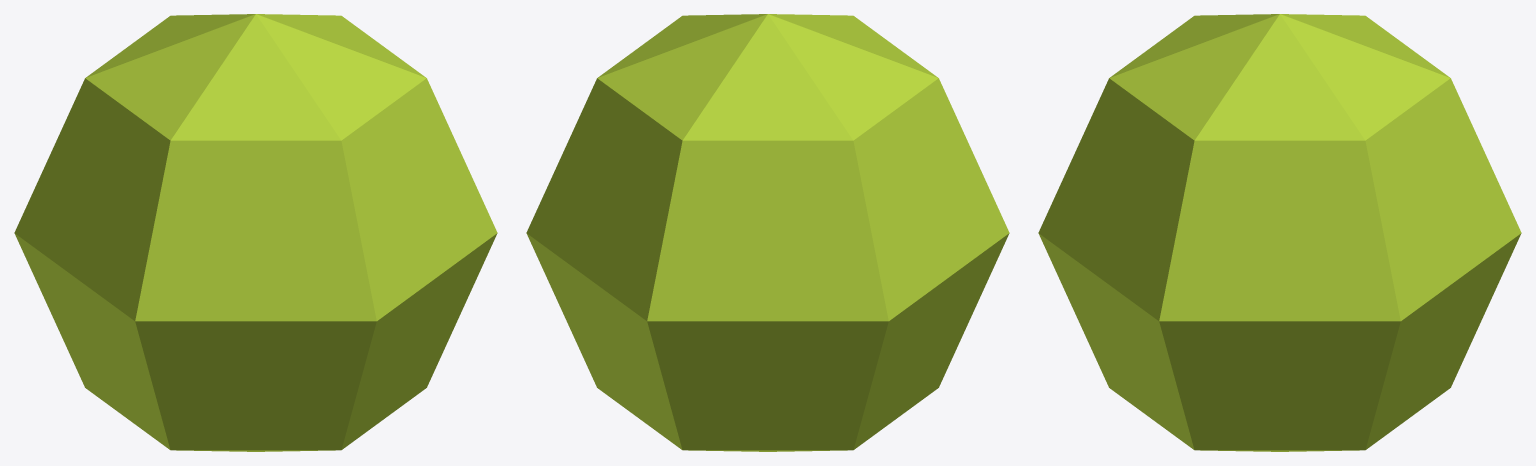
File: golamp.glb
3 views of the same model, side by side, from view 1: azimuth 30°, elevation 25°; view 2: azimuth 150°, elevation 25°; view 3: azimuth 270°, elevation 25° (orthographic).
Visible parts, largest first — view 1: golamp; view 2: golamp; view 3: golamp.
Boxes of the visible parts, bbox=[...] form: golamp: bbox=[14, 14, 497, 451]; golamp: bbox=[526, 14, 1009, 451]; golamp: bbox=[1038, 14, 1521, 451].
Size of the model in its own units: 0.5196 by 0.6 by 0.6.
